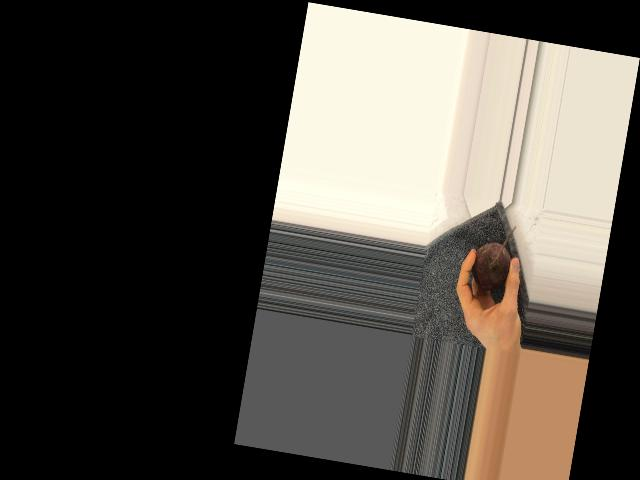beet: (469, 219, 517, 292)
